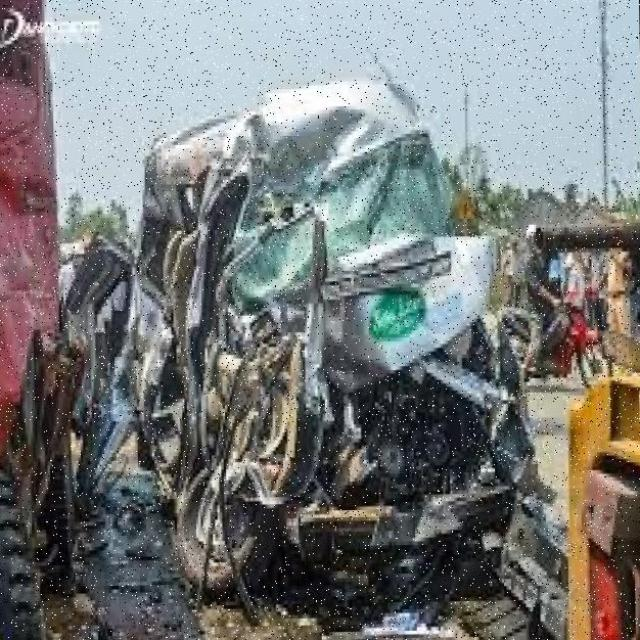accident: (0, 81, 559, 627)
